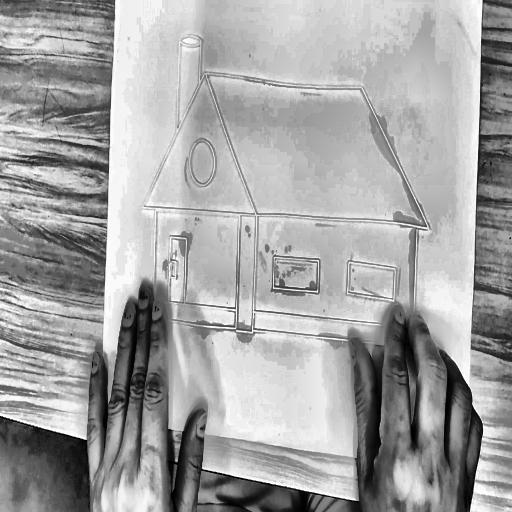bottom_left: (100, 411, 107, 424)
bottom_right: (461, 464, 470, 479)
house: (137, 6, 443, 359)
